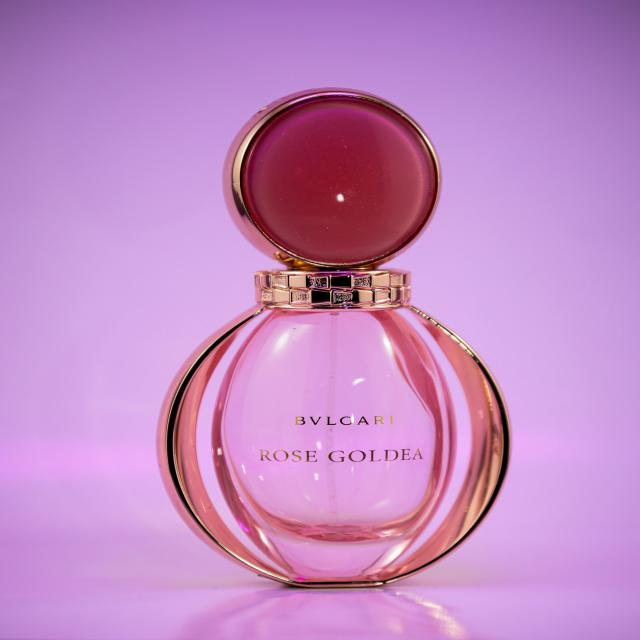electronic: (160, 86, 507, 592)
